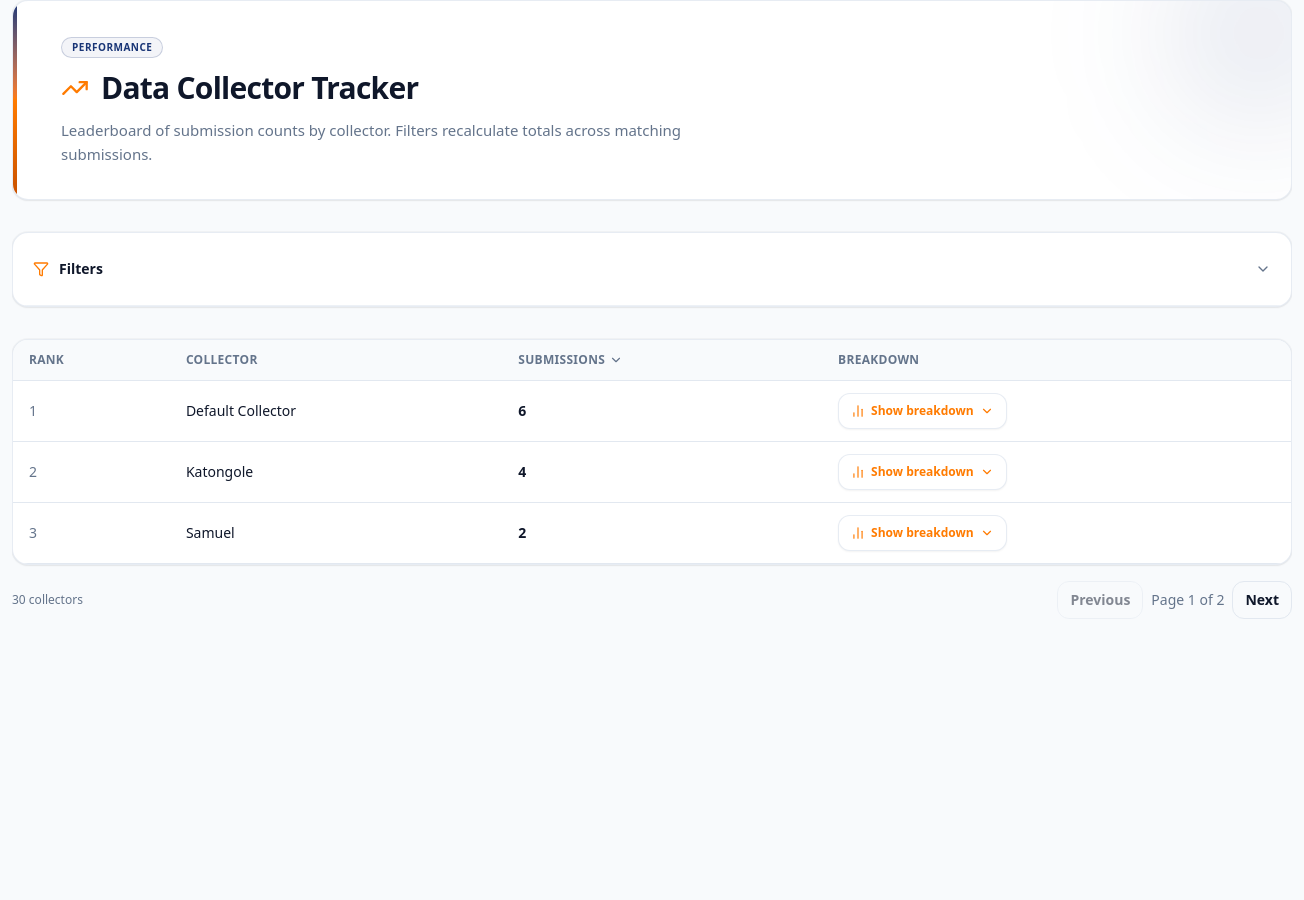
CollectorTrackerPage › fetches the next page when next is clicked
What coordinates should you click on to do the following:
click the button with test id "collector-leaderboard-pager-next-page"
I would click on:
 (1262, 600)
Its box is [1232,581,1292,619].
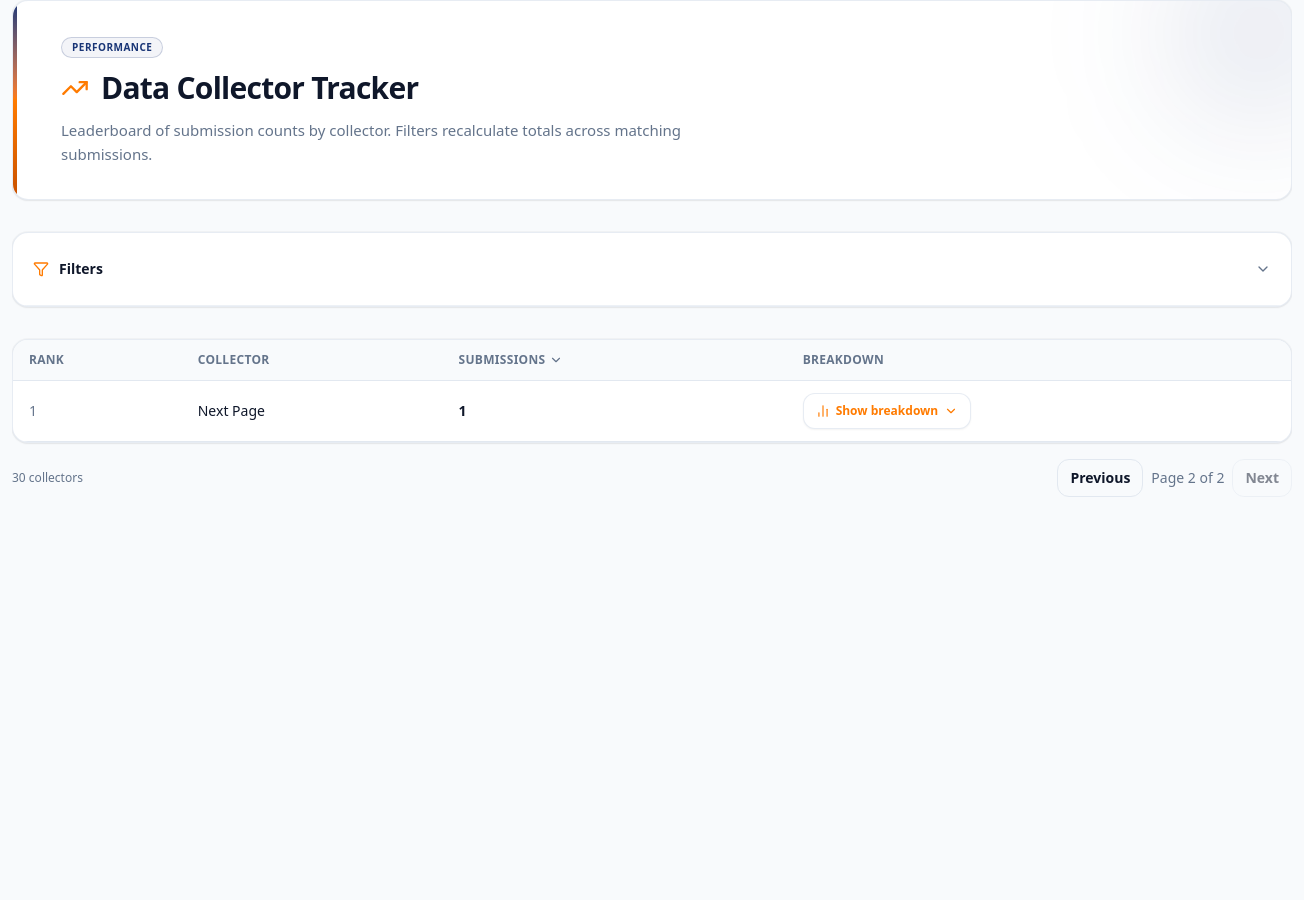
expect the row with test id "leaderboard-row-collector-4" is shown: met, box [13,380,1291,441]
